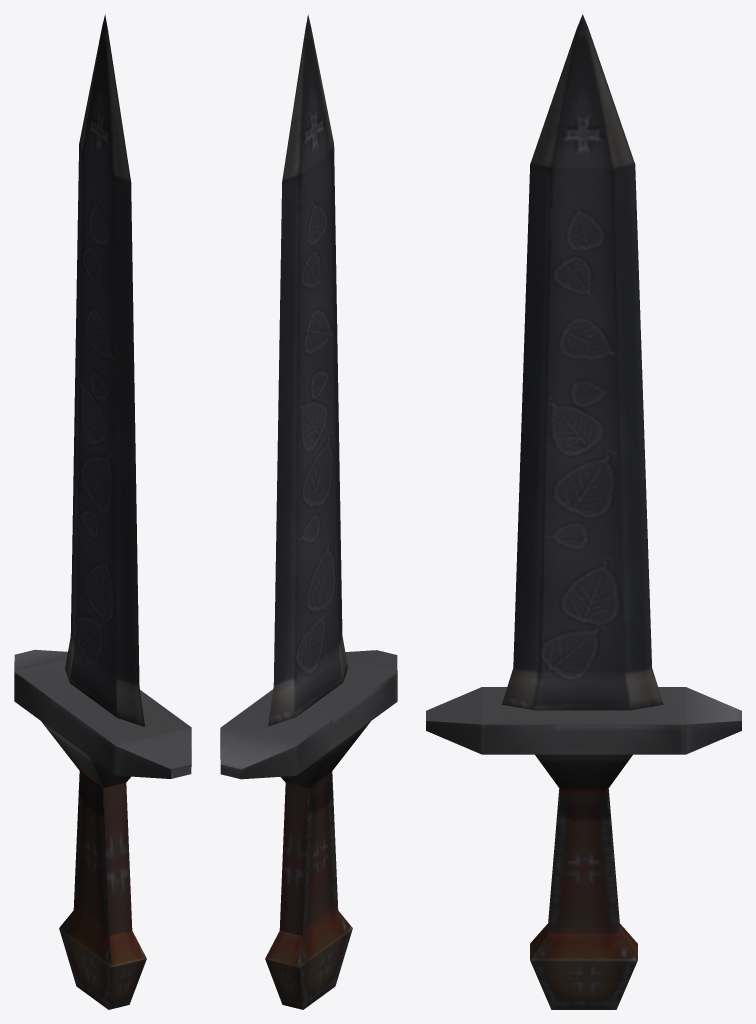
File: textured gladius 1.fbx
3 renders of one model, left to right at view 1: azimuth 30°, elevation 25°; view 2: azimuth 150°, elevation 25°; view 3: azimuth 270°, elevation 25°, orthographic.
Visible parts, largest first — view 1: Cube, Cube.001; view 2: Cube, Cube.001; view 3: Cube, Cube.001.
Part boxes in pixels (bbox=[...]): Cube: bbox=[65, 14, 144, 726]; Cube.001: bbox=[14, 649, 191, 1009]; Cube: bbox=[268, 14, 347, 726]; Cube.001: bbox=[220, 650, 397, 1009]; Cube: bbox=[502, 14, 663, 710]; Cube.001: bbox=[426, 687, 741, 1009].
Bounding box in the file's own units: 370 × 4571 × 1319.
Materials: 1 (1 with a texture image).
